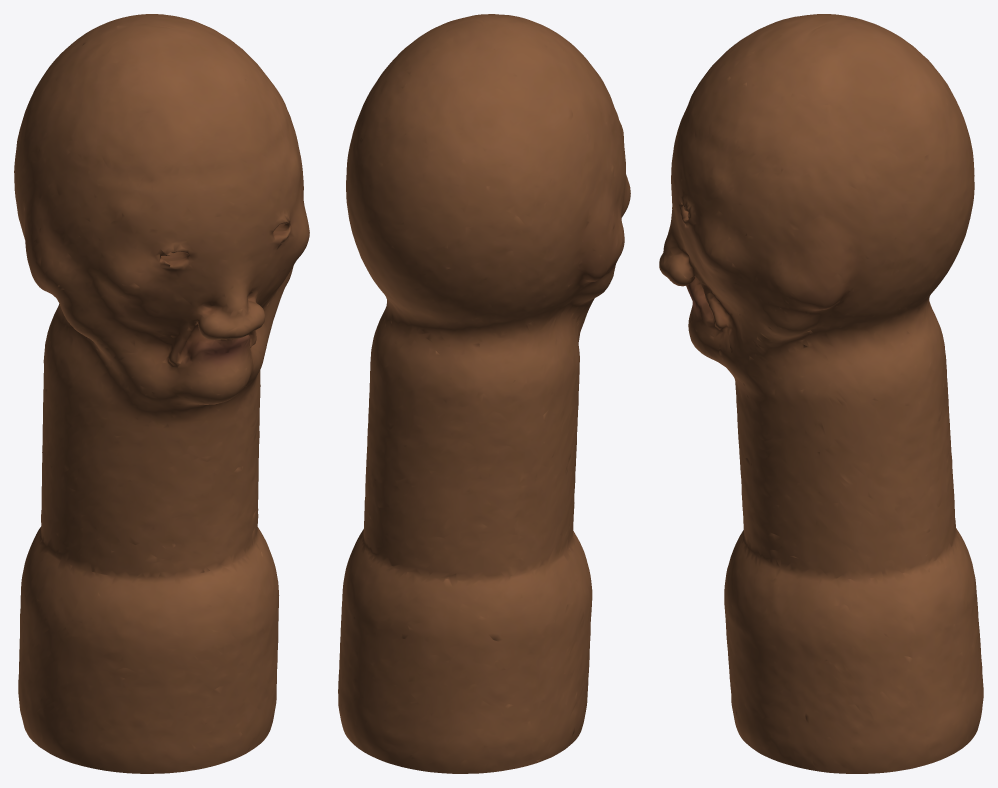
The model's file is zafer_skin.glb.
The picture shows the model from 3 angles, left to right: view 1: azimuth 30°, elevation 25°; view 2: azimuth 150°, elevation 25°; view 3: azimuth 270°, elevation 25°; orthographic projection. The views are drawn at different scales.
Visible parts, largest first — view 1: geometry_0; view 2: geometry_0; view 3: geometry_0.
Boxes of the visible parts, box(x1,y1,x2,y2) form: geometry_0: box(14, 14, 309, 773); geometry_0: box(338, 14, 630, 773); geometry_0: box(659, 14, 983, 773).
Size of the model in its own units: 0.1692 by 0.4439 by 0.1882.
